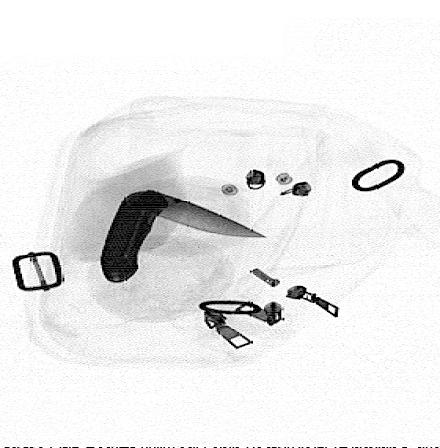Knife: (98, 189, 274, 284)
